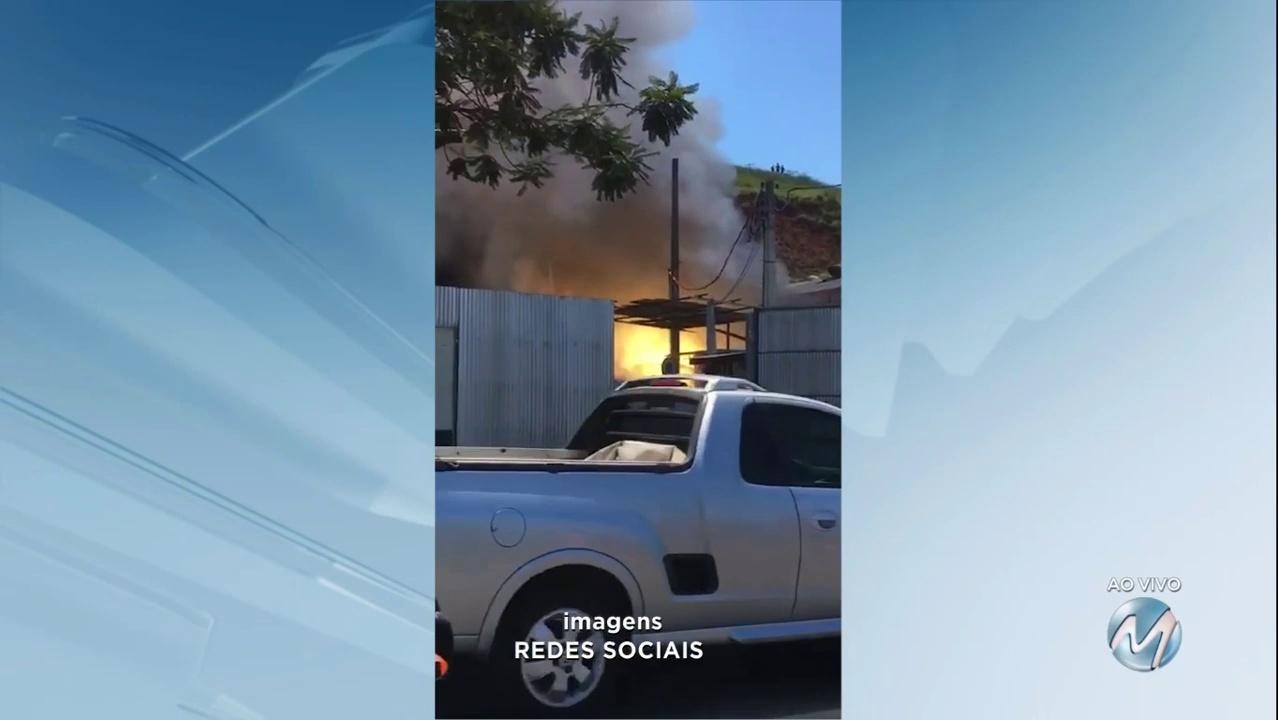fire: (616, 307, 747, 376)
smoke: (434, 0, 791, 304)
